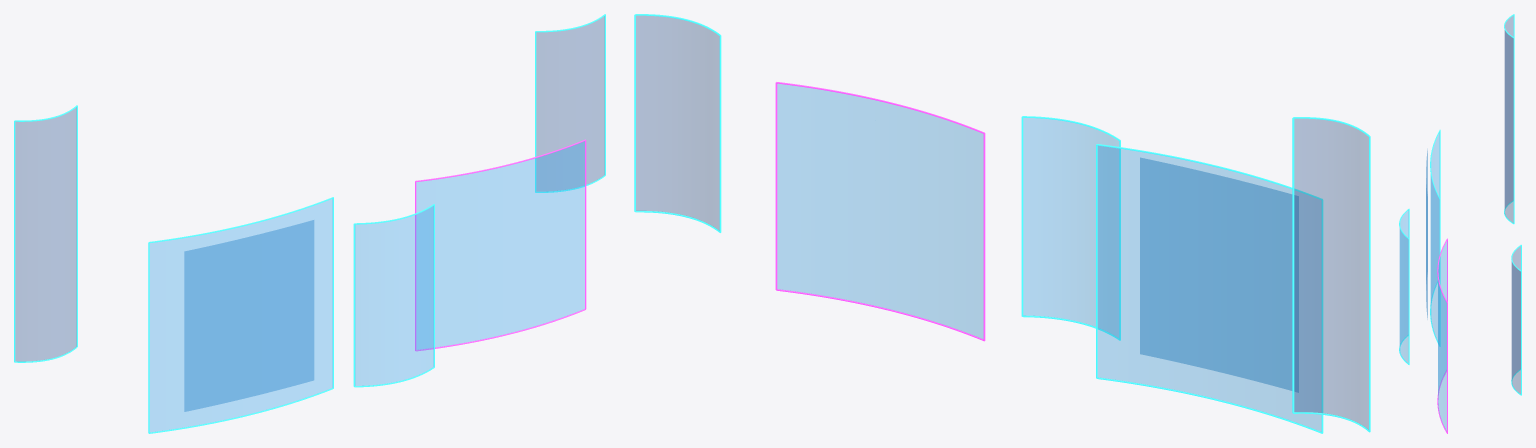
Rendered from scene_work_screens.source.glb.
3 views of the same model, side by side, from view 1: azimuth 30°, elevation 25°; view 2: azimuth 150°, elevation 25°; view 3: azimuth 270°, elevation 25° (orthographic). The views are drawn at different scales.
Parts seen in each view (by area): view 1: document_glass_surface, result_glass_surface, real_document_page_surface_texture_at_runtime, side_rail_glass_surface, work_steps_glass_surface, telemetry_glass_surface, document_border, result_border, side_rail_border, work_steps_border, telemetry_border; view 2: document_glass_surface, result_glass_surface, real_document_page_surface_texture_at_runtime, side_rail_glass_surface, work_steps_glass_surface, telemetry_glass_surface, result_border, document_border, side_rail_border, work_steps_border, telemetry_border; view 3: side_rail_glass_surface, document_glass_surface, result_glass_surface, work_steps_glass_surface, telemetry_glass_surface, document_border, side_rail_border, work_steps_border, result_border, real_document_page_surface_texture_at_runtime, telemetry_border.
Part boxes in pixels (box(x1,y1,x2,y2)): document_glass_surface: box(150, 199, 332, 432); result_glass_surface: box(416, 141, 584, 349); real_document_page_surface_texture_at_runtime: box(184, 220, 314, 411); side_rail_glass_surface: box(15, 107, 76, 361); work_steps_glass_surface: box(355, 206, 433, 385); telemetry_glass_surface: box(536, 16, 604, 191); document_border: box(148, 197, 333, 433); result_border: box(415, 139, 586, 351); side_rail_border: box(14, 105, 77, 362); work_steps_border: box(353, 204, 434, 387); telemetry_border: box(535, 14, 605, 192); document_glass_surface: box(1098, 146, 1321, 431); result_glass_surface: box(777, 84, 983, 338); real_document_page_surface_texture_at_runtime: box(1140, 158, 1298, 392); side_rail_glass_surface: box(1294, 119, 1368, 429); work_steps_glass_surface: box(1023, 118, 1118, 337); telemetry_glass_surface: box(636, 16, 719, 230); result_border: box(775, 82, 985, 341); document_border: box(1096, 144, 1323, 433); side_rail_border: box(1292, 117, 1370, 432); work_steps_border: box(1021, 116, 1120, 340); telemetry_border: box(634, 14, 721, 232); side_rail_glass_surface: box(1504, 16, 1513, 222); document_glass_surface: box(1430, 132, 1439, 340); result_glass_surface: box(1438, 241, 1446, 431); work_steps_glass_surface: box(1399, 210, 1408, 362); telemetry_glass_surface: box(1511, 246, 1520, 393); document_border: box(1430, 129, 1440, 346); side_rail_border: box(1504, 14, 1514, 224); work_steps_border: box(1399, 208, 1409, 364); result_border: box(1437, 238, 1447, 433); real_document_page_surface_texture_at_runtime: box(1426, 149, 1427, 319); telemetry_border: box(1511, 244, 1521, 395).
Size of the model in its own units: 5.83 by 2.8 by 1.35.
